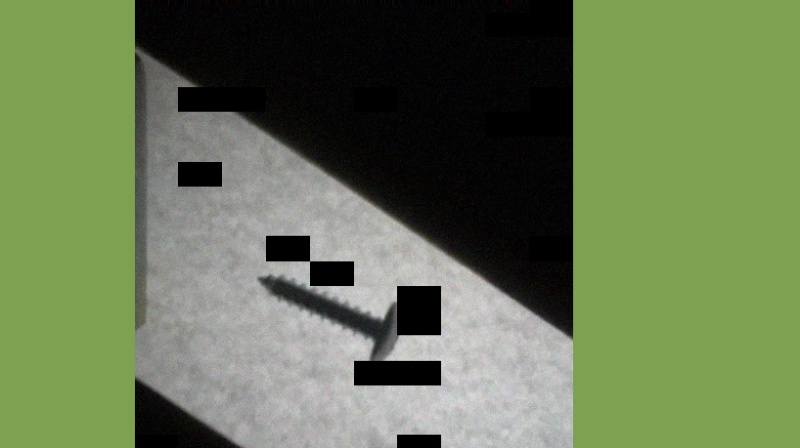S003: (257, 271, 404, 368)
